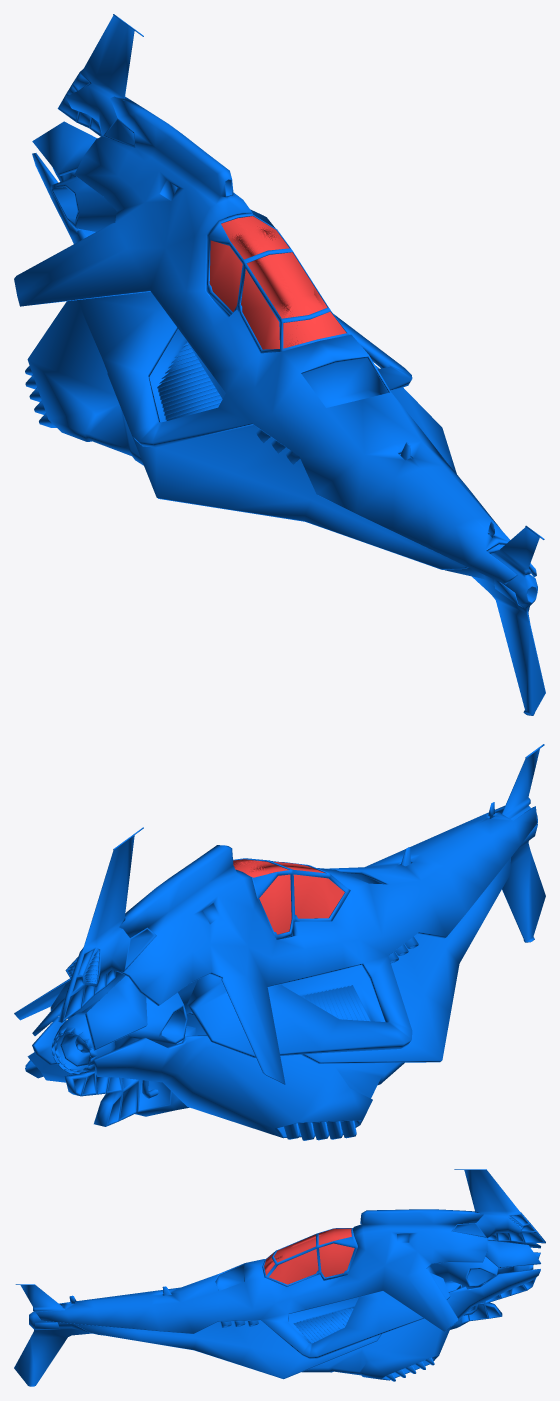
Rendered from Space Ship.fbx.
The picture shows the model from 3 angles, top to bottom: view 1: azimuth 30°, elevation 25°; view 2: azimuth 150°, elevation 25°; view 3: azimuth 270°, elevation 25°; orthographic projection. The views are drawn at different scales.
Parts seen in each view (by area): view 1: Body_ship, Glasse_ship; view 2: Body_ship, Glasse_ship; view 3: Body_ship, Glasse_ship.
Boxes of the visible parts, x1,y1,x2,y2 form: Body_ship: (14, 14, 545, 715); Glasse_ship: (206, 213, 348, 353); Body_ship: (14, 744, 545, 1140); Glasse_ship: (233, 858, 350, 939); Body_ship: (14, 1169, 545, 1386); Glasse_ship: (262, 1228, 357, 1286).
Size of the model in its own units: 554 by 248 by 209.
